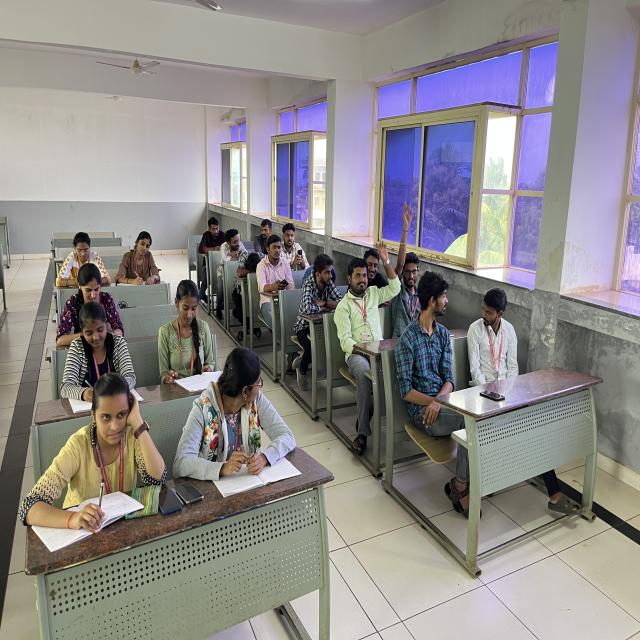Hand Rising: (386, 192, 428, 328)
Reading: (18, 372, 171, 530), (157, 283, 212, 383), (54, 232, 110, 286)
Sleeping: (233, 247, 270, 301)
Using Phone: (256, 234, 296, 356), (197, 218, 224, 307), (279, 224, 309, 271)
Writing: (190, 351, 286, 481), (58, 302, 138, 404), (53, 262, 124, 348), (114, 232, 160, 286)
